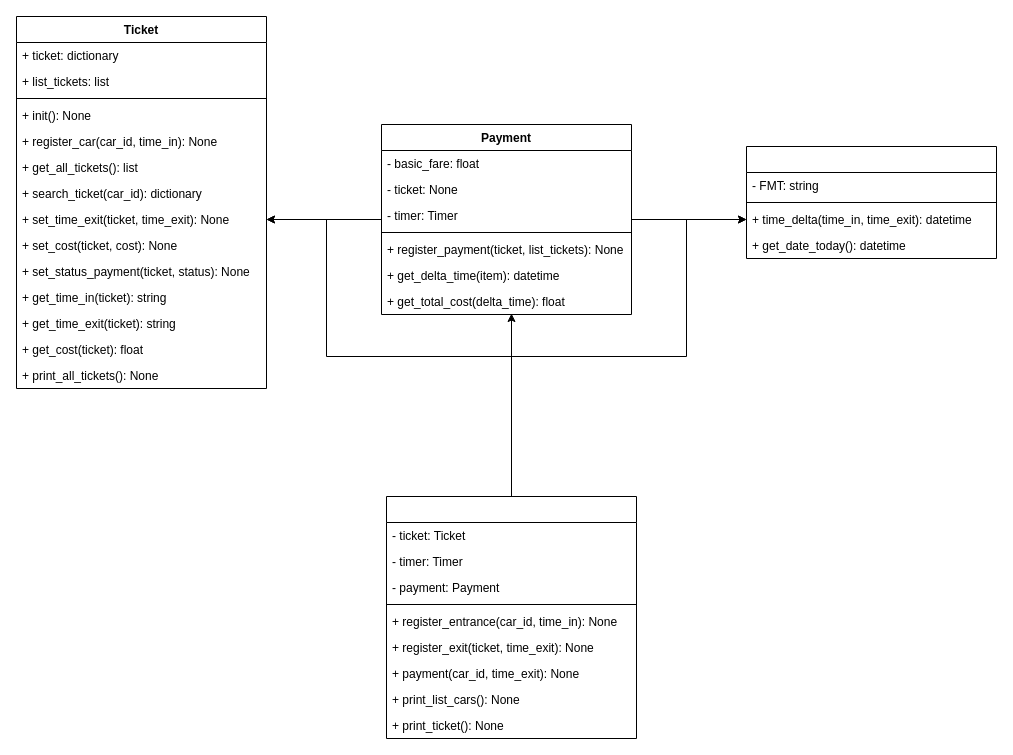
This 1013x755 diagram has some shape labels left out. The shapes that lost their labels are listed below. From the top down, each one's box as (x1, y1, x2, y2) in pixels, then its label:
(746, 146, 996, 258): Timer
(386, 496, 636, 738): Machine
